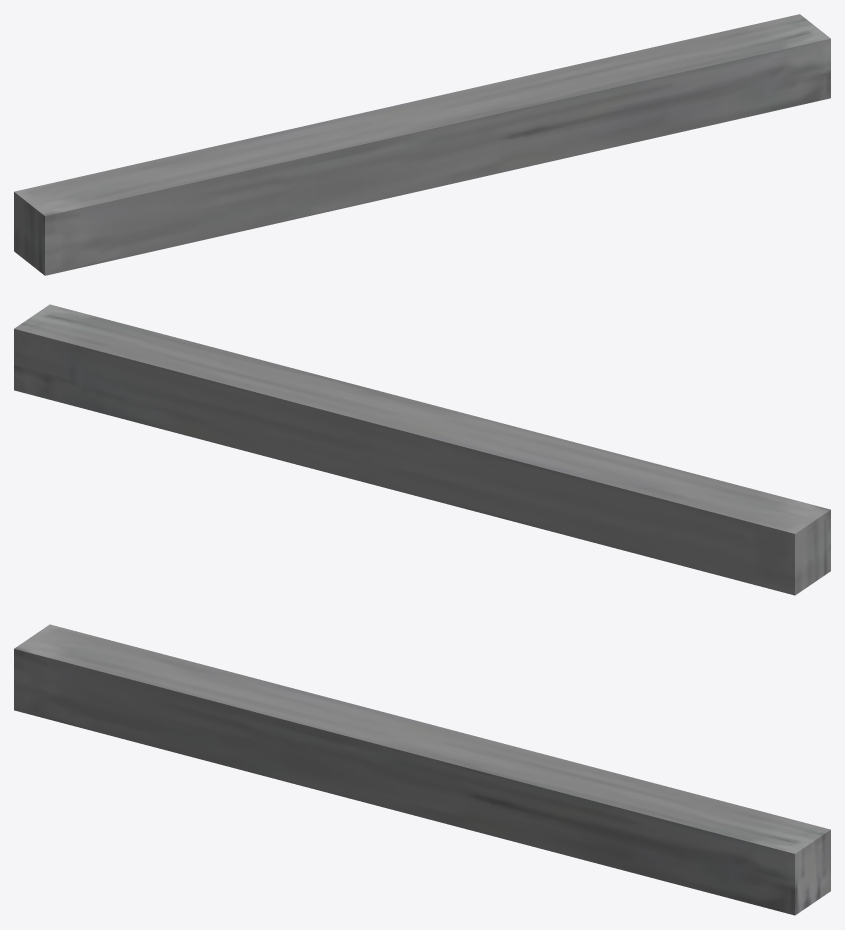
Rendered from frame__seat_side_rail_0.glb.
The picture shows the model from 3 angles, top to bottom: view 1: azimuth 30°, elevation 25°; view 2: azimuth 150°, elevation 25°; view 3: azimuth 330°, elevation 25°; orthographic projection. The views are drawn at different scales.
Visible parts, largest first — view 1: geometry_0; view 2: geometry_0; view 3: geometry_0.
Boxes of the visible parts, left/top/right/bottom form: geometry_0: left=14, top=14, right=830, bottom=275; geometry_0: left=14, top=304, right=830, bottom=595; geometry_0: left=14, top=624, right=830, bottom=915.
Size of the model in its own units: 0.4611 by 0.034 by 0.049.
1 material, 1 textured.
